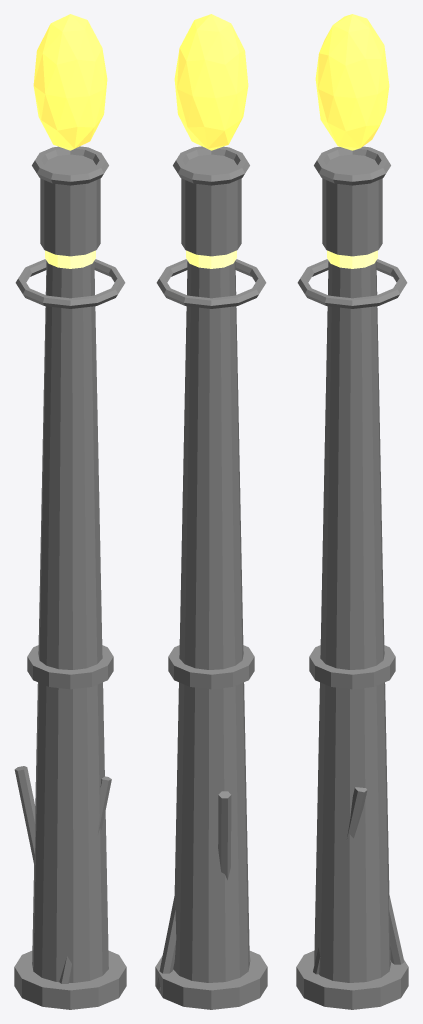
The model's file is flare_stack.glb.
The picture shows the model from 3 angles, left to right: view 1: azimuth 30°, elevation 25°; view 2: azimuth 150°, elevation 25°; view 3: azimuth 330°, elevation 25°; orthographic projection.
Visible parts, largest first — view 1: flare_stack, flame; view 2: flare_stack, flame; view 3: flare_stack, flame.
Part boxes in pixels (x1,y1,x2,y2): flare_stack: (14, 146, 126, 1009); flame: (33, 14, 107, 150); flare_stack: (155, 146, 267, 1009); flame: (174, 14, 248, 150); flare_stack: (296, 146, 408, 1009); flame: (315, 14, 389, 150).
Size of the model in its own units: 0.52 by 4.98 by 0.52.
